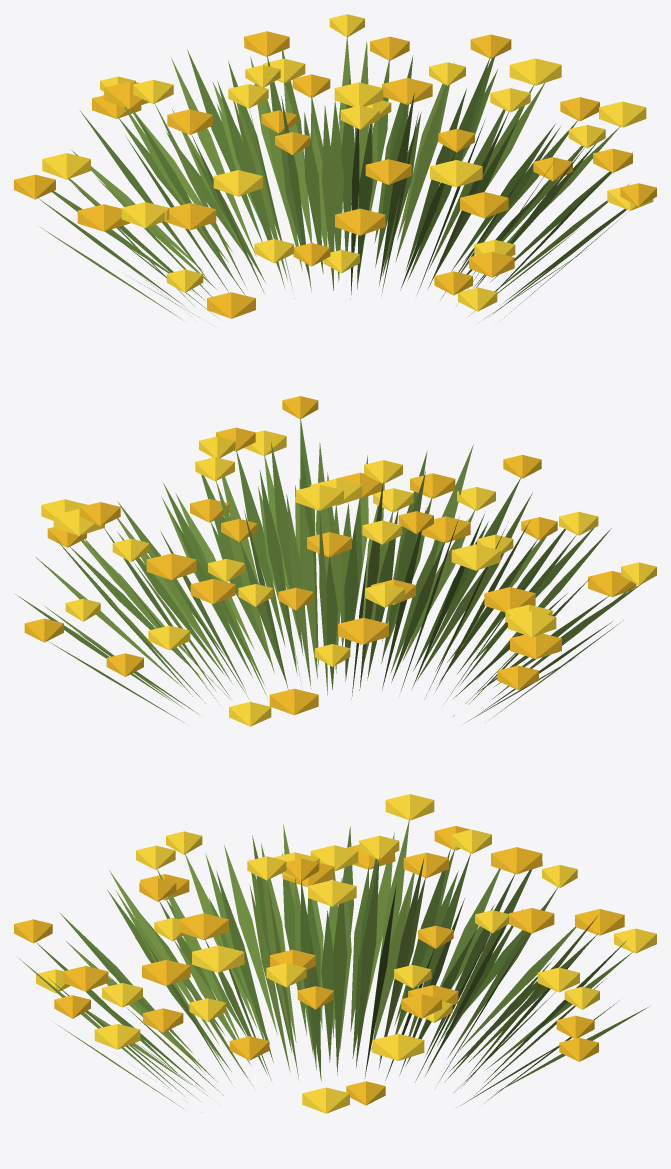
Rendered from wildflowers.glb.
The picture shows the model from 3 angles, top to bottom: view 1: azimuth 30°, elevation 25°; view 2: azimuth 150°, elevation 25°; view 3: azimuth 270°, elevation 25°; orthographic projection.
Visible parts, largest first — view 1: green1, leaf0, gold3, yellow2; view 2: green1, leaf0, gold3, yellow2; view 3: leaf0, green1, yellow2, gold3.
Boxes of the visible parts, x1,y1,x2,y2 form: green1: (37,49,633,319); leaf0: (40,35,628,326); gold3: (14,31,656,318); yellow2: (42,14,653,311); green1: (15,417,639,722); leaf0: (35,442,635,723); gold3: (24,396,636,715); yellow2: (41,430,656,726); leaf0: (19,817,649,1108); green1: (35,826,626,1105); yellow2: (36,794,656,1113); gold3: (14,826,624,1105).
Size of the model in its own units: 1.63 by 0.5814 by 1.58.
